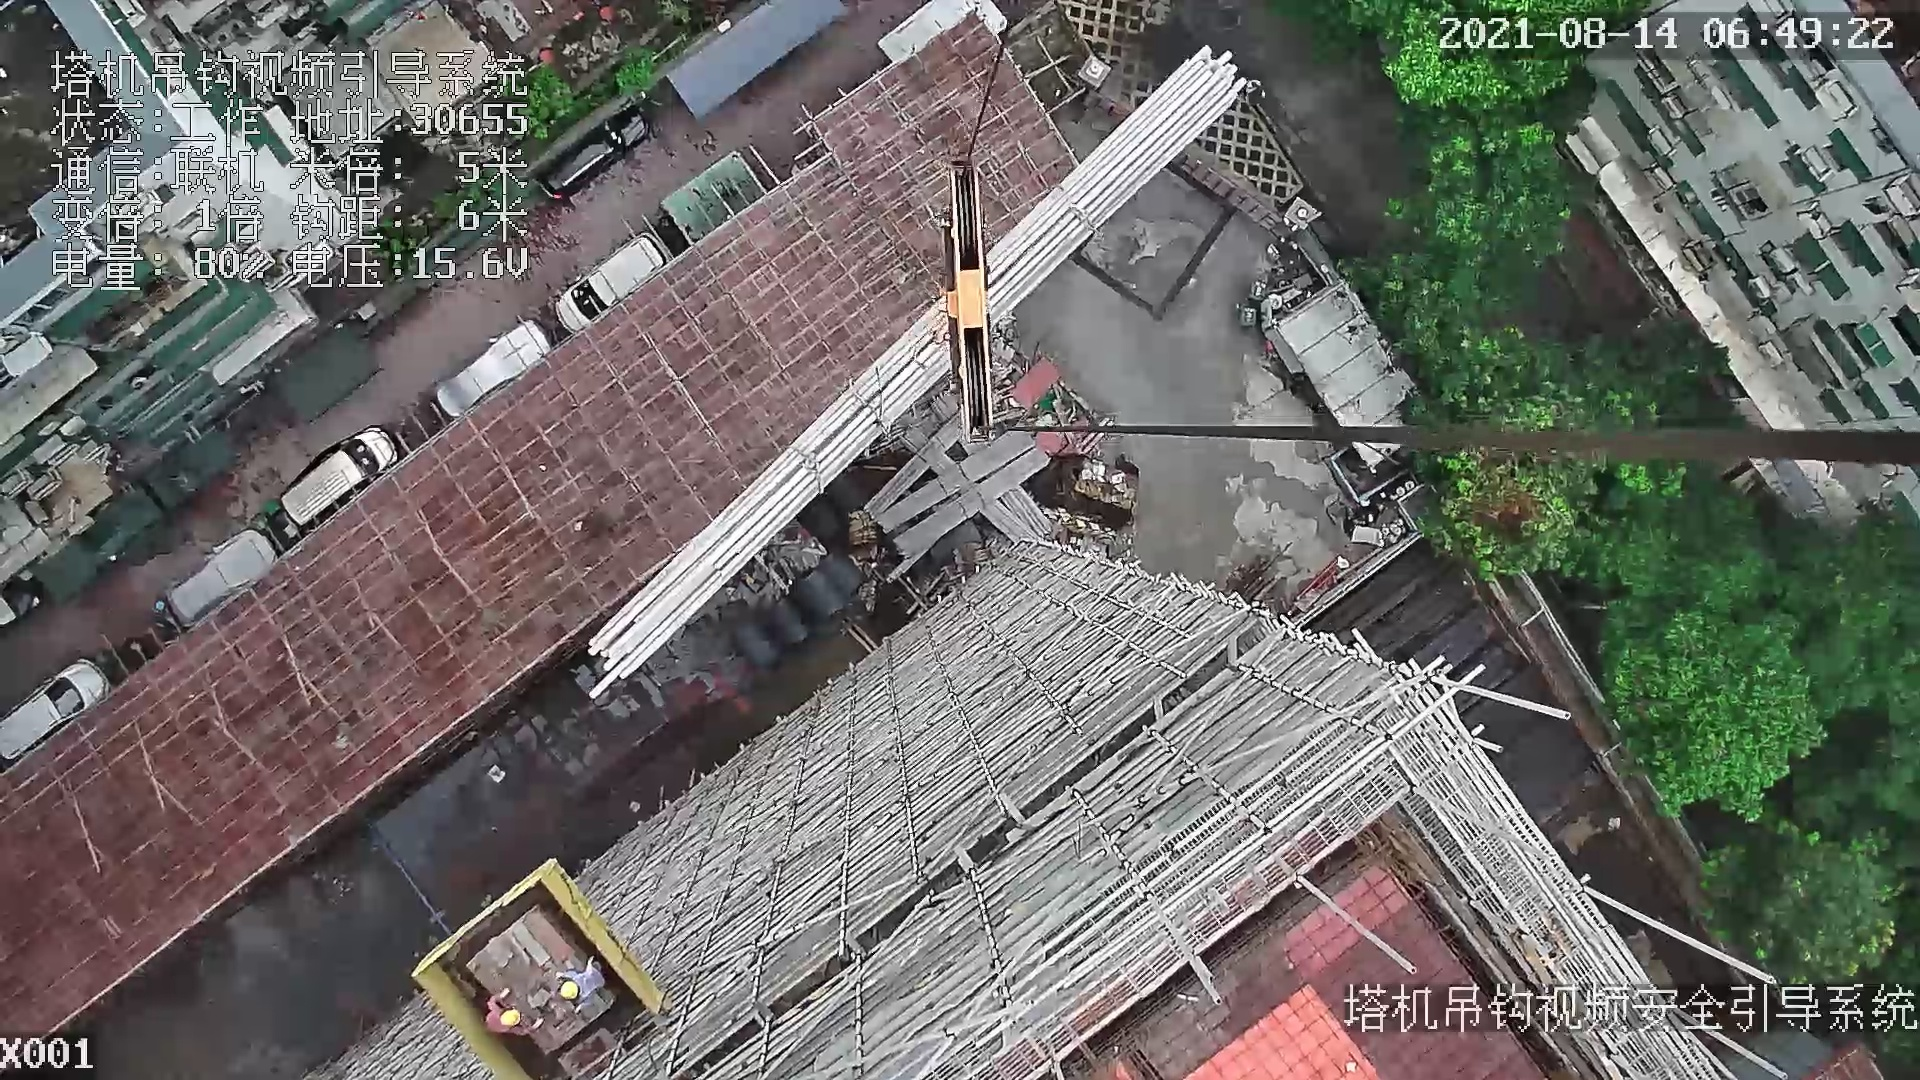helmet: (498, 1006, 524, 1030), (560, 975, 581, 1000)
hook: (932, 153, 1005, 447)
person: (482, 986, 546, 1044), (559, 964, 613, 1000)
